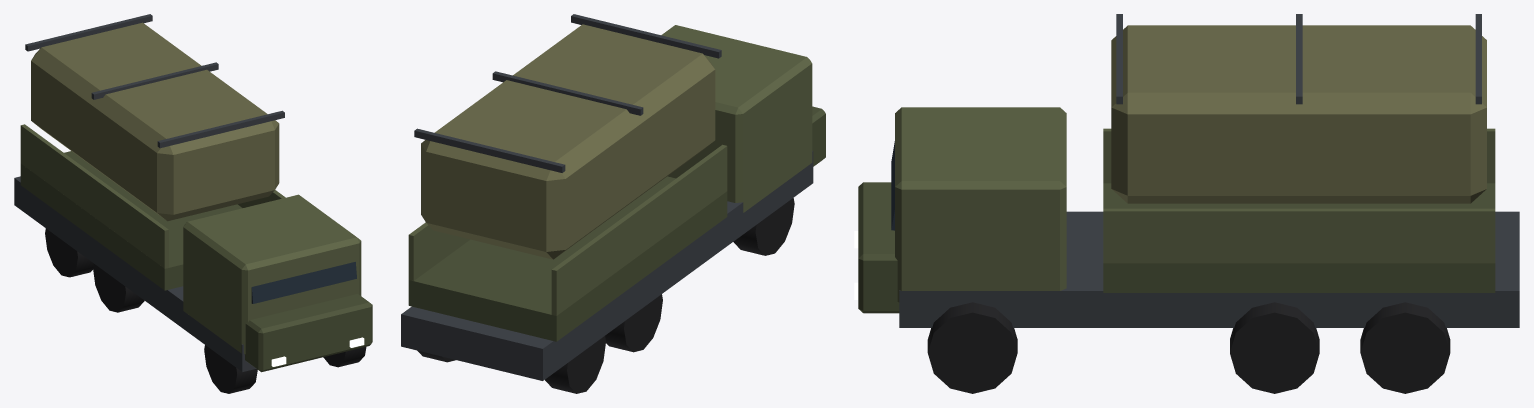
File: mil_truck.glb
3 views of the same model, side by side, from view 1: azimuth 30°, elevation 25°; view 2: azimuth 150°, elevation 25°; view 3: azimuth 270°, elevation 25° (orthographic). The views are drawn at different scales.
Visible parts, largest first — view 1: mil_truck; view 2: mil_truck; view 3: mil_truck.
Boxes of the visible parts, box(x1,y1,x2,y2) form: mil_truck: box(14, 14, 372, 393); mil_truck: box(401, 14, 825, 393); mil_truck: box(854, 14, 1519, 393).
Size of the model in its own units: 2.65 by 3.9 by 8.15.
